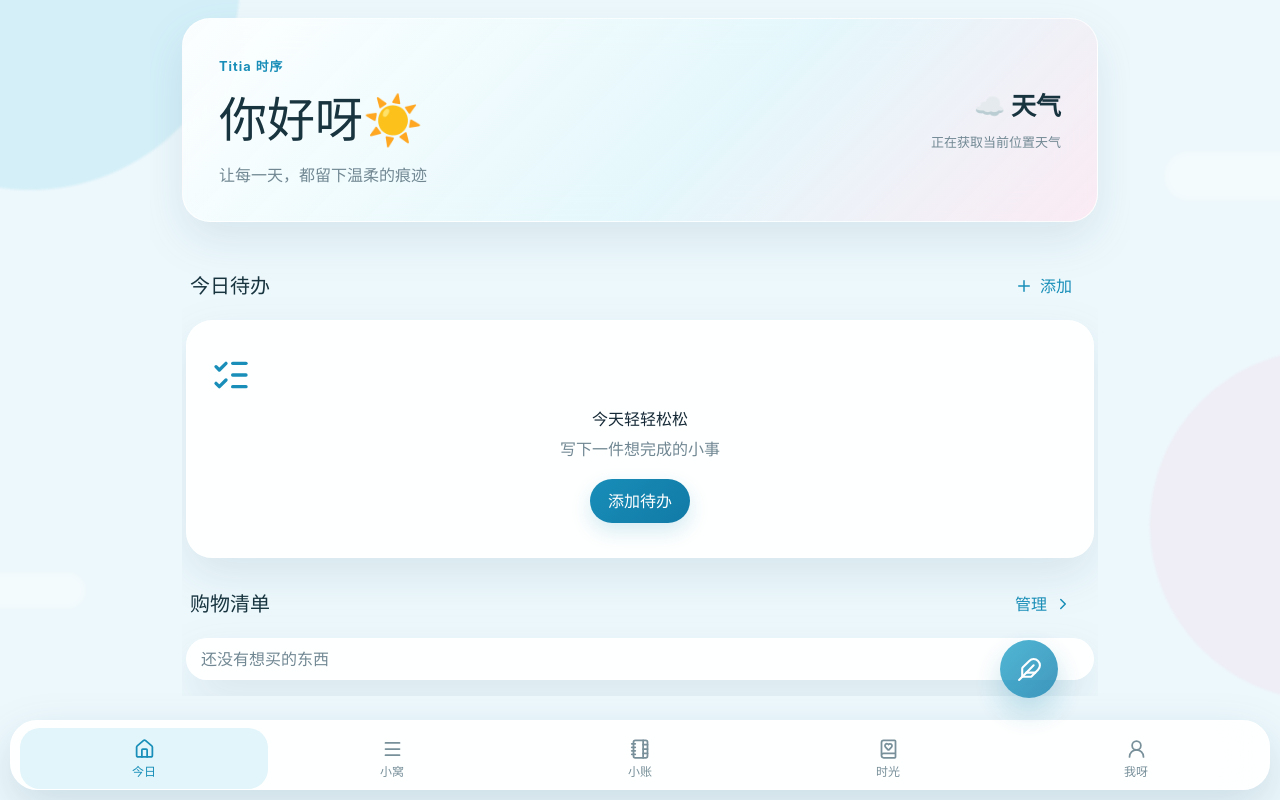
Test: TitiaApp › opens the real budget form from the ledger home budget card
Step 1. Click the button "小账" → coordinates (640, 758), box [516,728,764,789]
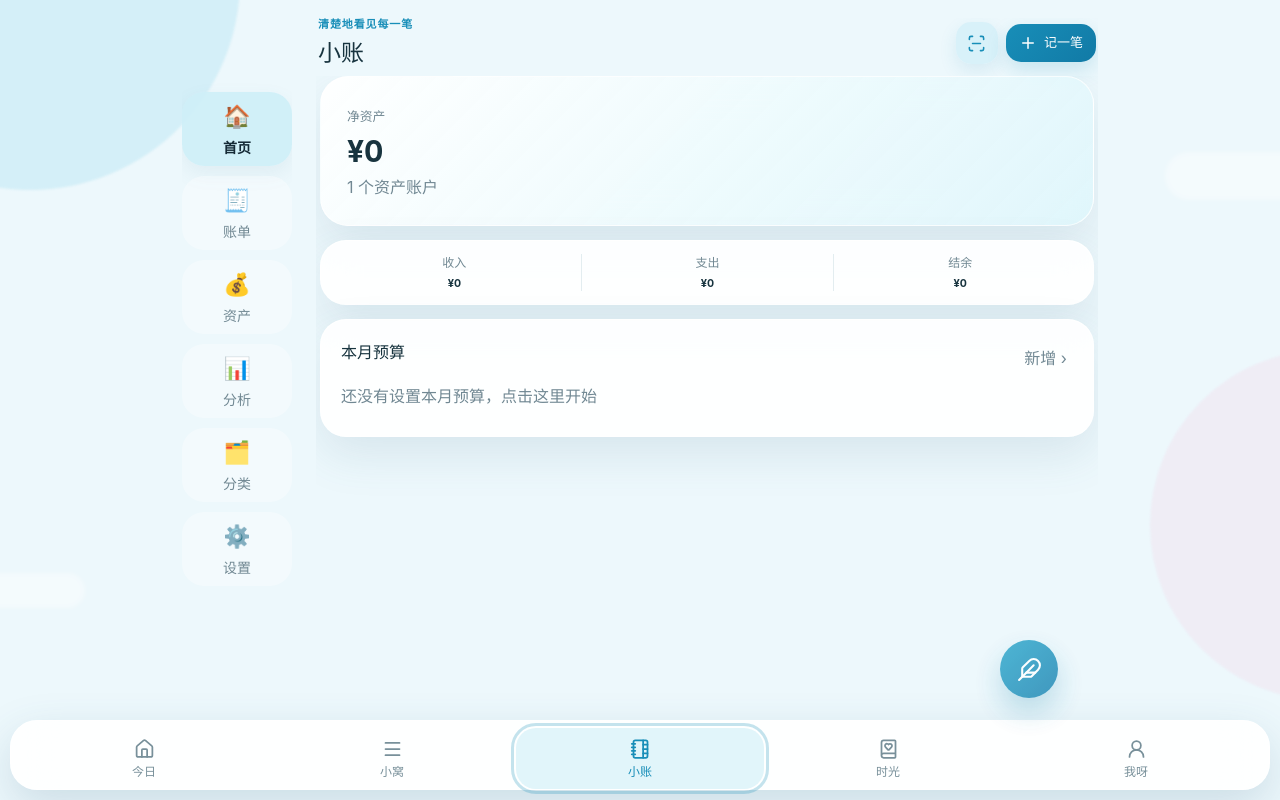
Step 2. Click the button with aria-label "设置本月预算" → coordinates (1046, 358), box [1018,340,1073,376]
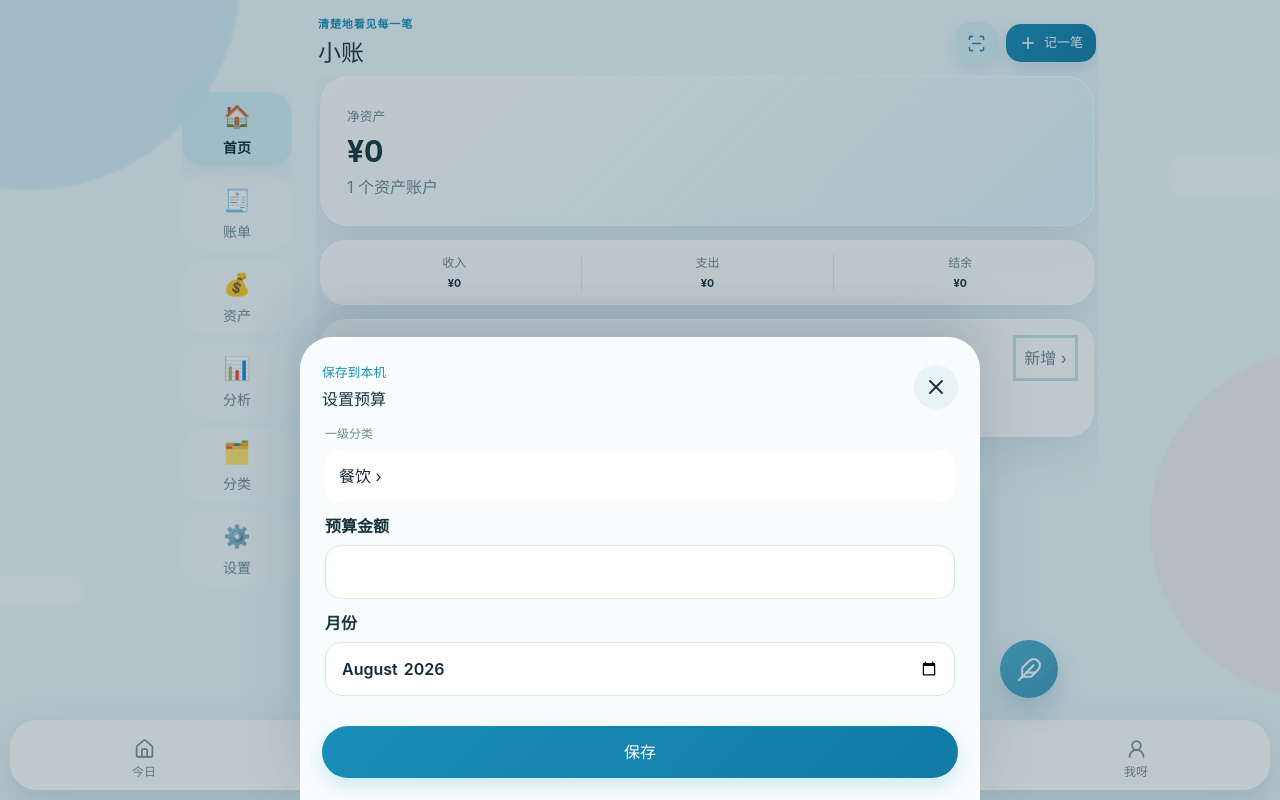
Now the heading "设置预算" is shown, box [322,387,386,411]
